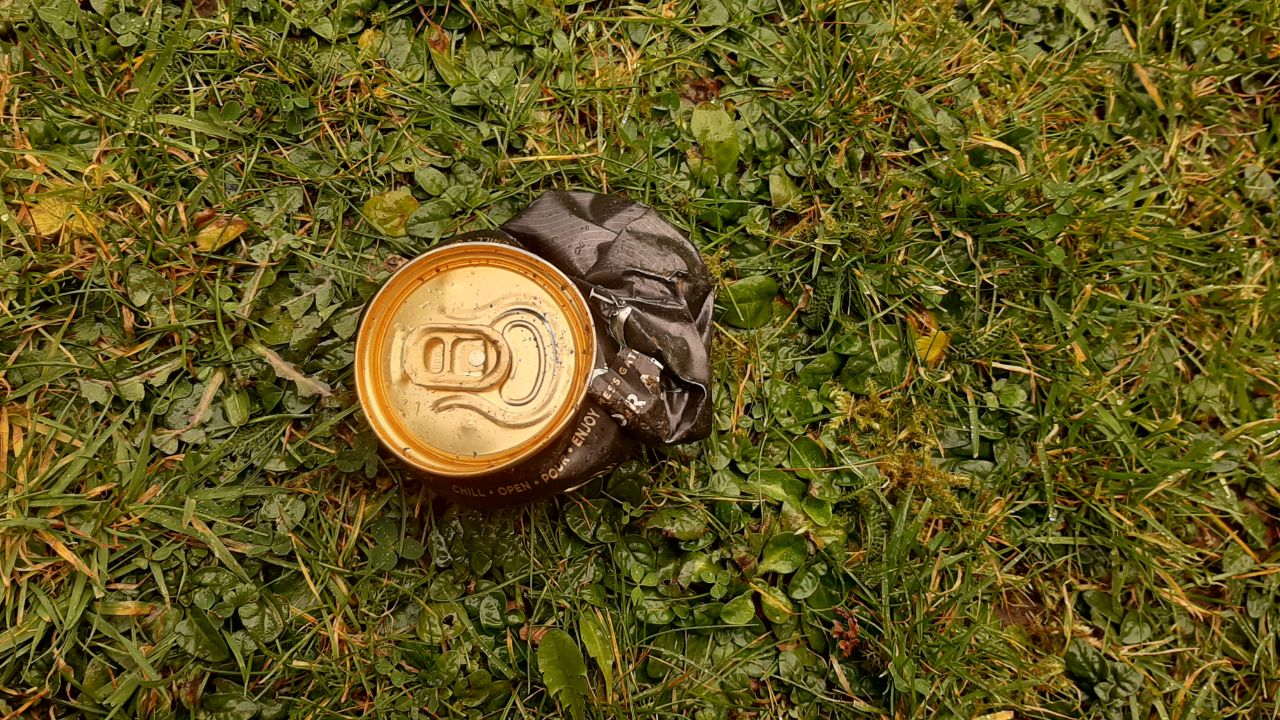Can: (351, 190, 720, 511)
